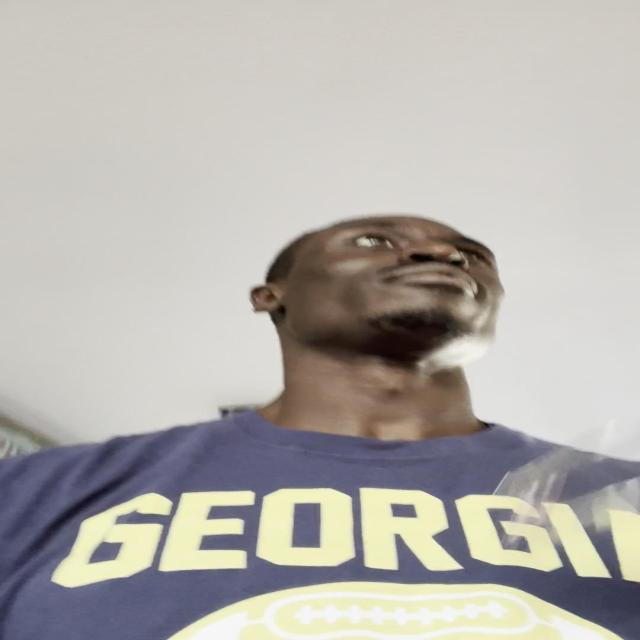NO-Mask: (262, 209, 512, 369)
